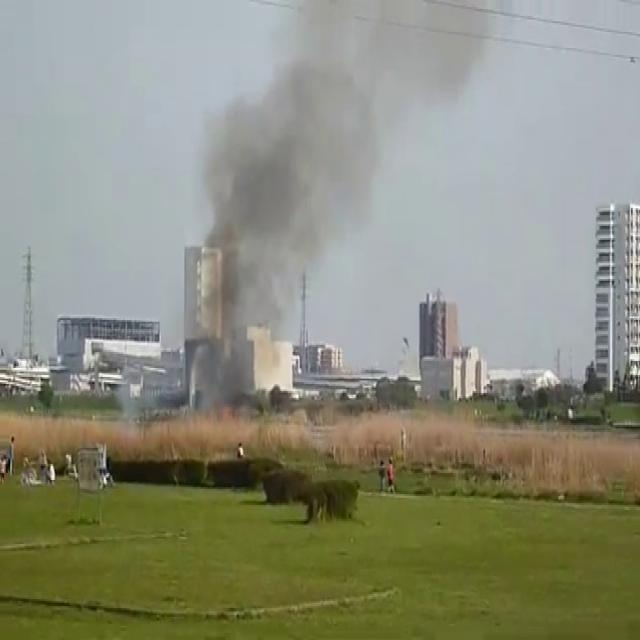Smoke: (167, 0, 388, 396)
